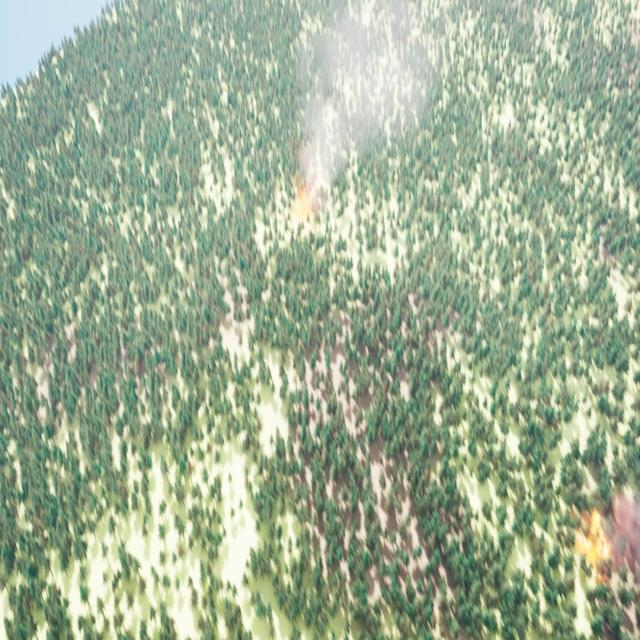fire: (576, 506, 608, 574), (294, 175, 316, 219)
smoke: (298, 0, 440, 176), (612, 490, 639, 576)
